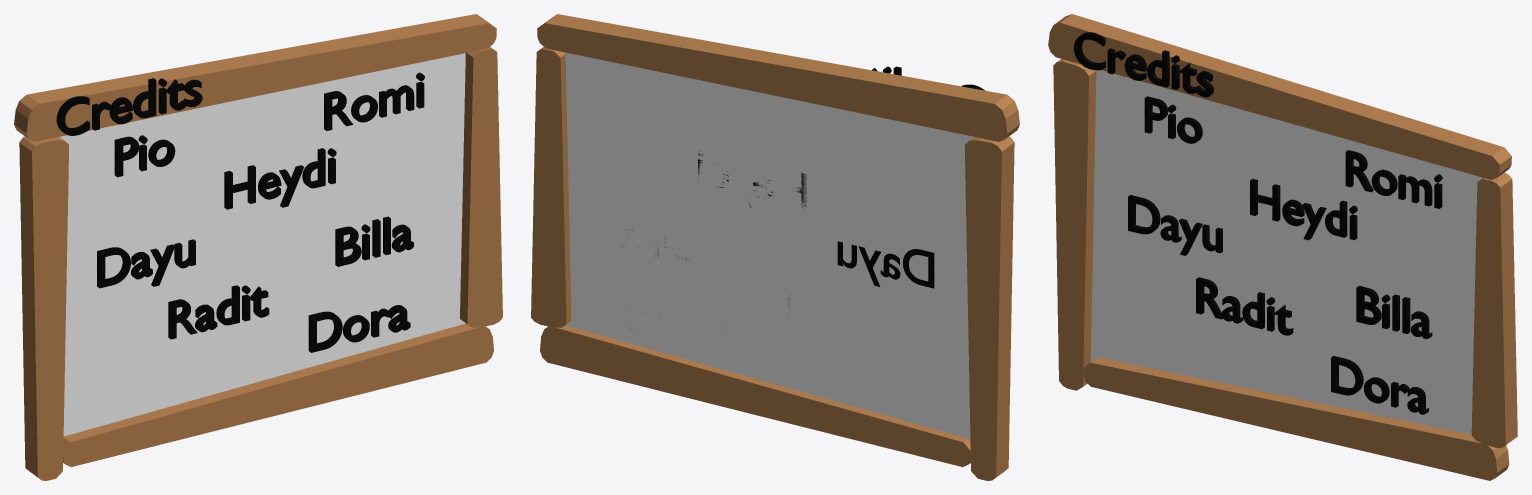
Rendered from credit.fbx.
3 renders of one model, left to right at view 1: azimuth 30°, elevation 25°; view 2: azimuth 150°, elevation 25°; view 3: azimuth 330°, elevation 25°, orthographic. The views are drawn at different scales.
Visible parts, largest first — view 1: Plane.001, Cube.002, Cube.001, Cube.003, Cube.004, a, a.005, a.006, a.004, a.002, a.007, a.003 (+1 smaller); view 2: Plane.001, Cube.002, Cube.001, Cube.003, Cube.004, a.004; view 3: Plane.001, Cube.002, Cube.001, Cube.003, Cube.004, a, a.005, a.006, a.002, a.007, a.004, a.003 (+1 smaller).
Boxes of the visible parts, x1,y1,x2,y2 form: Plane.001: (60,53,465,436); Cube.002: (14,14,496,141); Cube.001: (63,323,493,467); Cube.003: (19,136,69,480); Cube.004: (460,47,502,327); a: (56,78,202,135); a.005: (224,148,336,209); a.006: (168,285,269,339); a.004: (97,239,195,288); a.002: (324,72,424,130); a.007: (335,216,413,266); a.003: (308,305,410,352); Plane.001: (564,52,973,440); Cube.002: (537,14,1019,141); Cube.001: (540,325,970,467); Cube.003: (964,136,1014,480); Cube.004: (531,47,571,327); a.004: (837,241,934,288); Plane.001: (1090,70,1482,434); Cube.002: (1048,14,1511,179); Cube.001: (1083,357,1509,480); Cube.003: (1053,59,1096,390); Cube.004: (1471,172,1517,447); a: (1073,32,1213,97); a.005: (1250,179,1357,240); a.006: (1196,277,1293,335); a.002: (1345,150,1442,208); a.007: (1356,285,1432,338); a.004: (1128,195,1222,255); a.003: (1331,356,1428,414).
Bounding box in the file's own units: 230 × 175 × 13.11.
